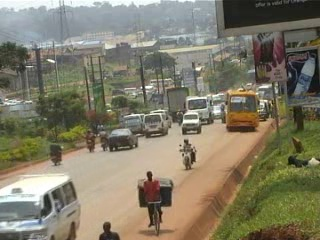Car: (105, 127, 139, 151), (180, 108, 205, 134), (210, 101, 225, 119)
Motorcycle: (177, 135, 199, 172), (47, 136, 63, 166), (95, 125, 110, 151), (84, 126, 96, 153), (174, 108, 183, 127)
